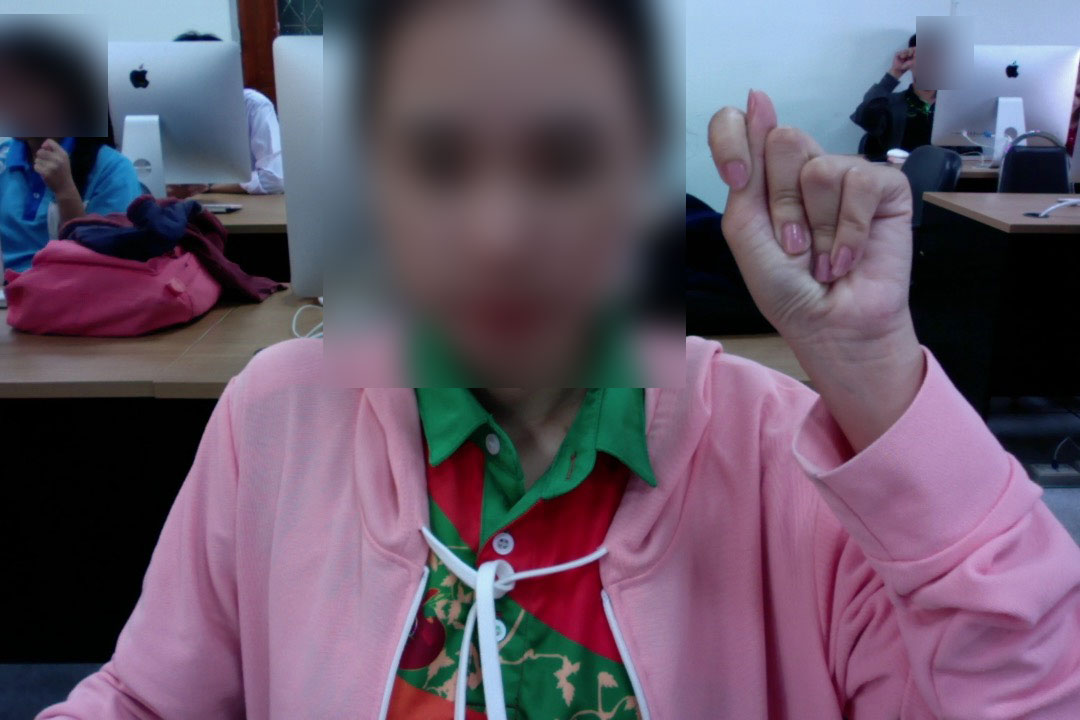tor: (703, 79, 919, 366)
